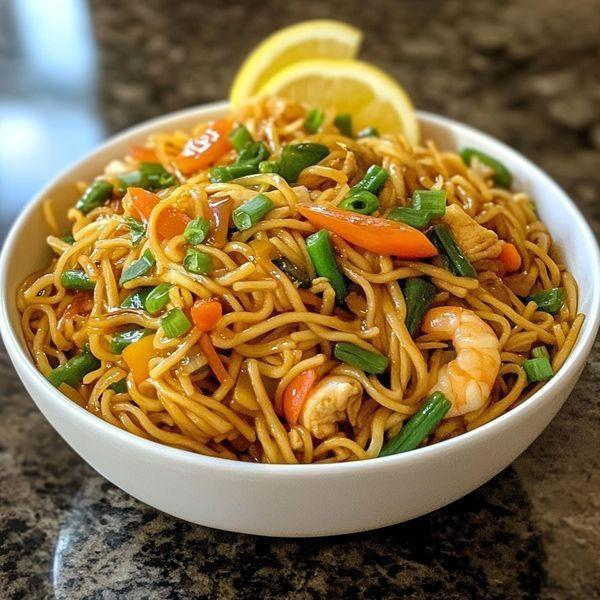pancit bihon: (11, 112, 567, 454)
